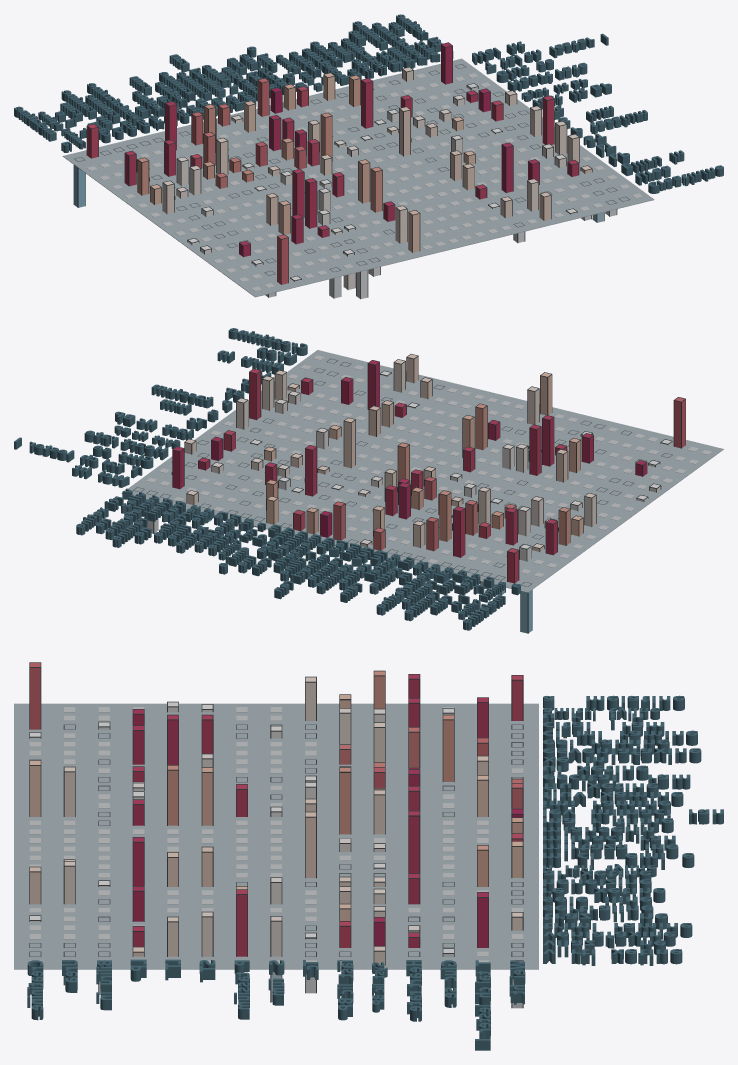
The model's file is kilim_v3.glb.
3 renders of one model, top to bottom at view 1: azimuth 30°, elevation 25°; view 2: azimuth 150°, elevation 25°; view 3: azimuth 270°, elevation 25°, orthographic. The views are drawn at different scales.
Visible parts, largest first — view 1: world; view 2: world; view 3: world.
Boxes of the visible parts, x1,y1,x2,y2 form: world: [14, 14, 723, 299]; world: [14, 328, 723, 633]; world: [14, 662, 723, 1050].
Bounding box in the file's own units: 0.7461 × 0.1253 × 0.6442.
